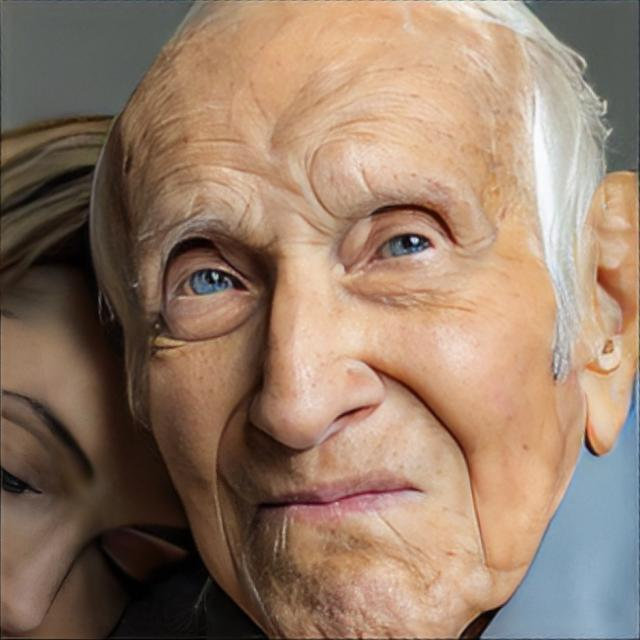disgust: (112, 0, 586, 640), (1, 260, 194, 640)
